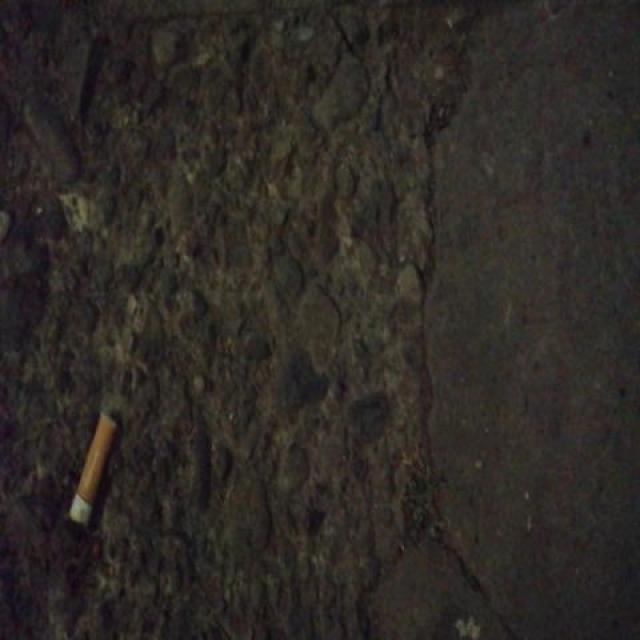non-organic waste: (64, 410, 120, 530)
